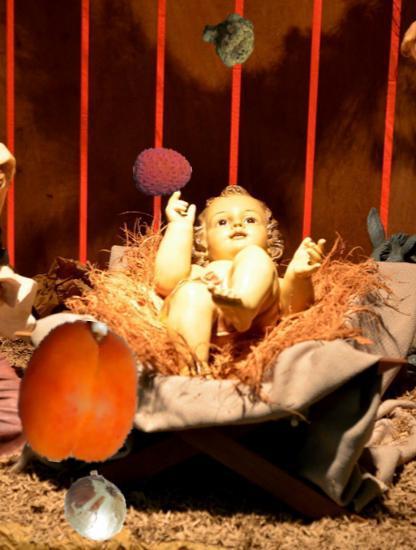Apricot: (6, 320, 151, 465)
Cauliflower: (200, 12, 257, 69)
Lychee: (133, 142, 193, 202)
Onion: (63, 474, 130, 541)
